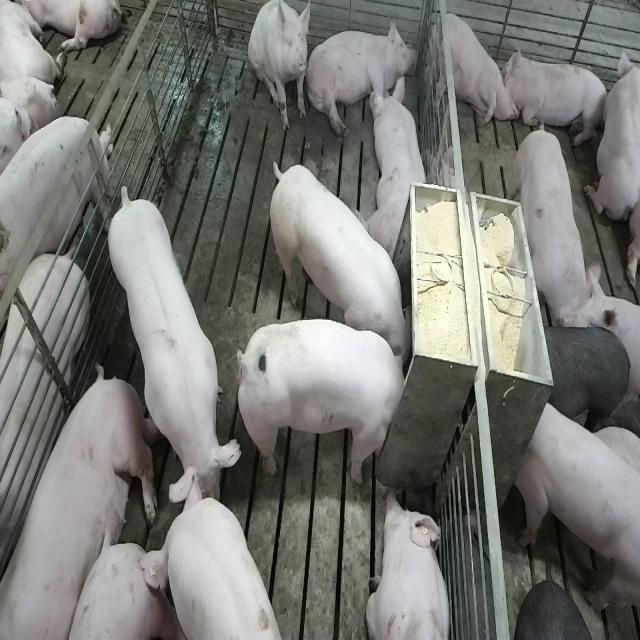Feeding: (263, 159, 412, 364), (232, 317, 408, 484)
Lateral_lying: (4, 367, 161, 640), (304, 16, 417, 138)
Sitting: (424, 3, 515, 138), (248, 2, 311, 134)
Standing: (108, 187, 242, 519), (0, 252, 89, 603), (515, 394, 638, 624), (0, 111, 110, 304), (142, 495, 285, 640), (513, 113, 604, 333), (542, 320, 631, 426)
Sternal_lying: (366, 489, 453, 640), (368, 72, 431, 260), (505, 46, 609, 147), (583, 42, 637, 225)
